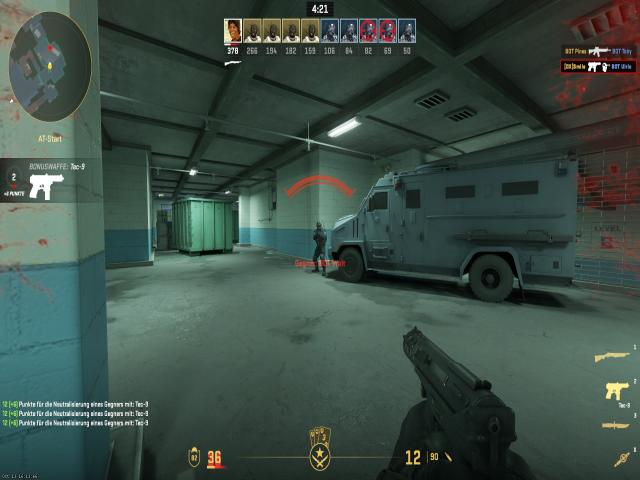CT: (314, 219, 326, 273)
CT-Head: (316, 221, 322, 229)
